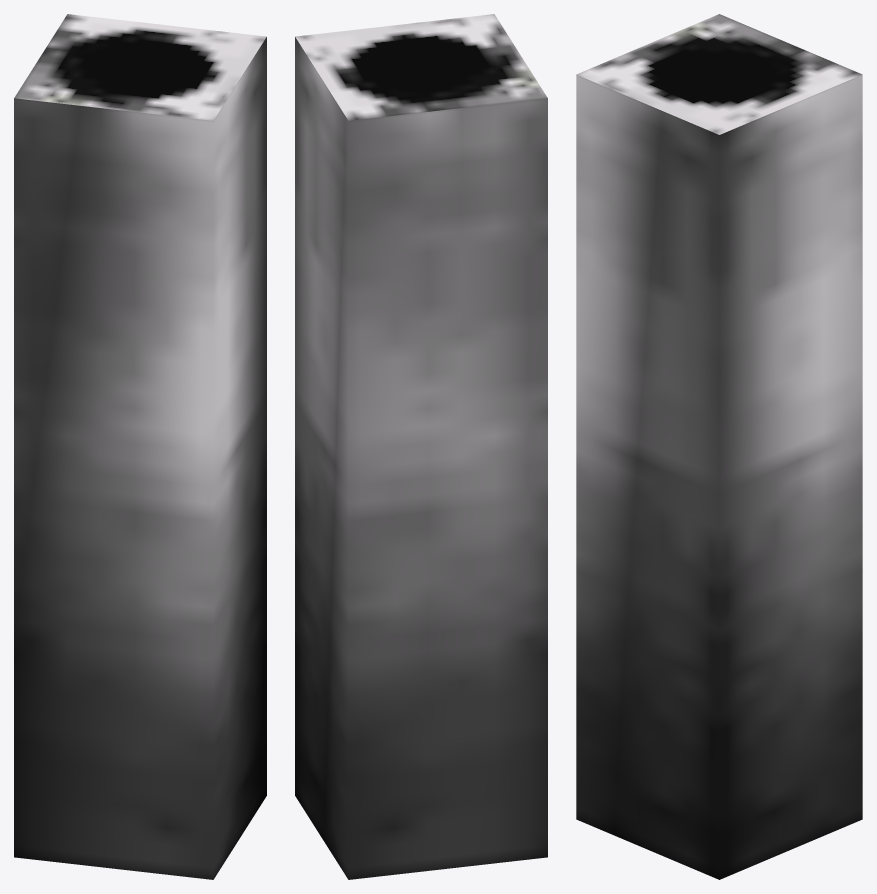
Rendered from GLA - Ground Vehicles - SCUD Launcher - Damage State 4 - UVScudLchr_d4.glb.
3 renders of one model, left to right at view 1: azimuth 30°, elevation 25°; view 2: azimuth 150°, elevation 25°; view 3: azimuth 270°, elevation 25°, orthographic.
Visible parts, largest first — view 1: UVSCUDLCHR_D4; view 2: UVSCUDLCHR_D4; view 3: UVSCUDLCHR_D4.
Part boxes in pixels (x1=…): UVSCUDLCHR_D4: x1=14, y1=14, x2=266, y2=879; UVSCUDLCHR_D4: x1=295, y1=14, x2=547, y2=879; UVSCUDLCHR_D4: x1=576, y1=14, x2=862, y2=879.
Bounding box in the file's own units: 1.43 × 4.1 × 1.43.
1 material, 1 textured.
